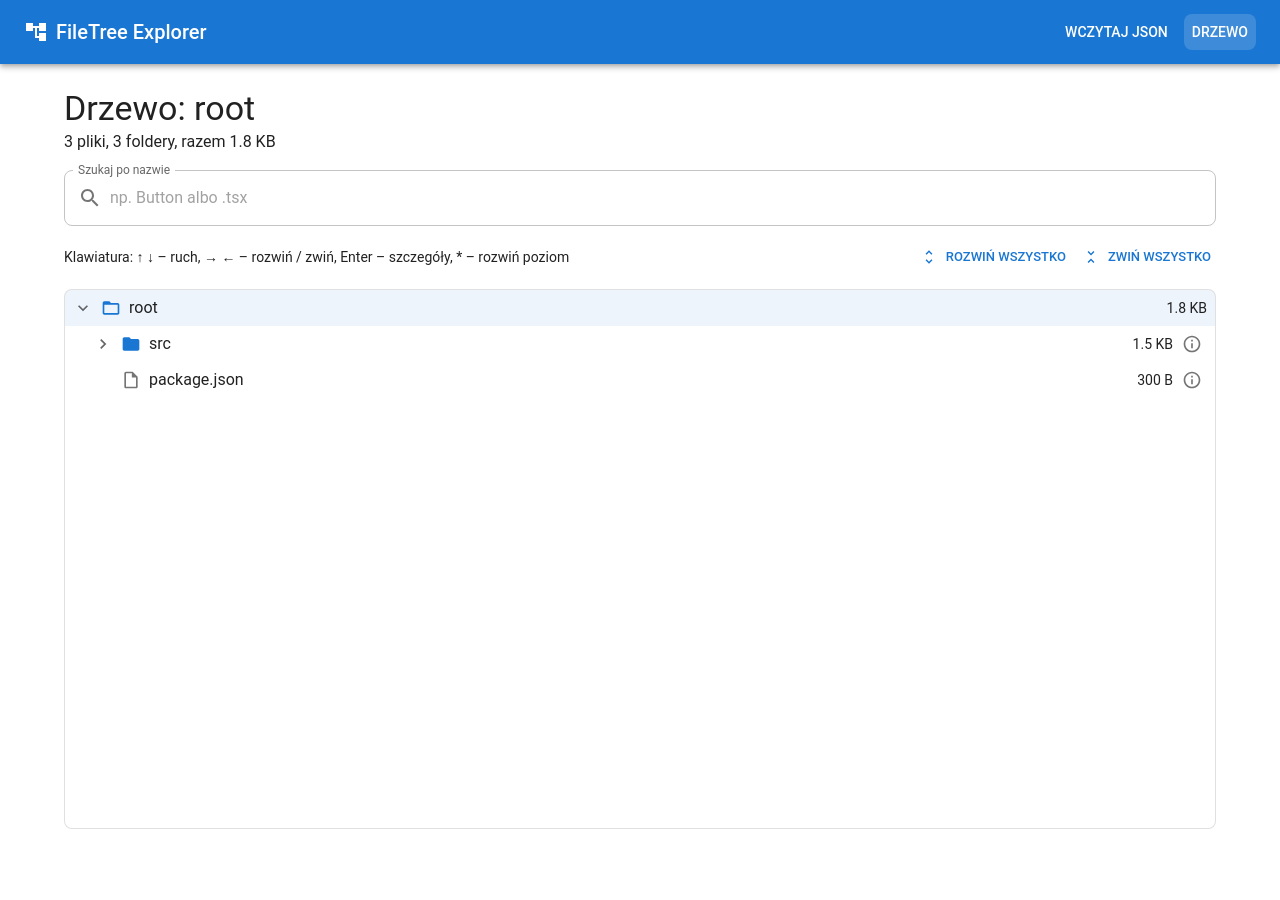
search › keeps the tree state while searching
Click the list item with aria-label "src, 1.5 KB" at point(1153, 344), box [93, 334, 1202, 354]
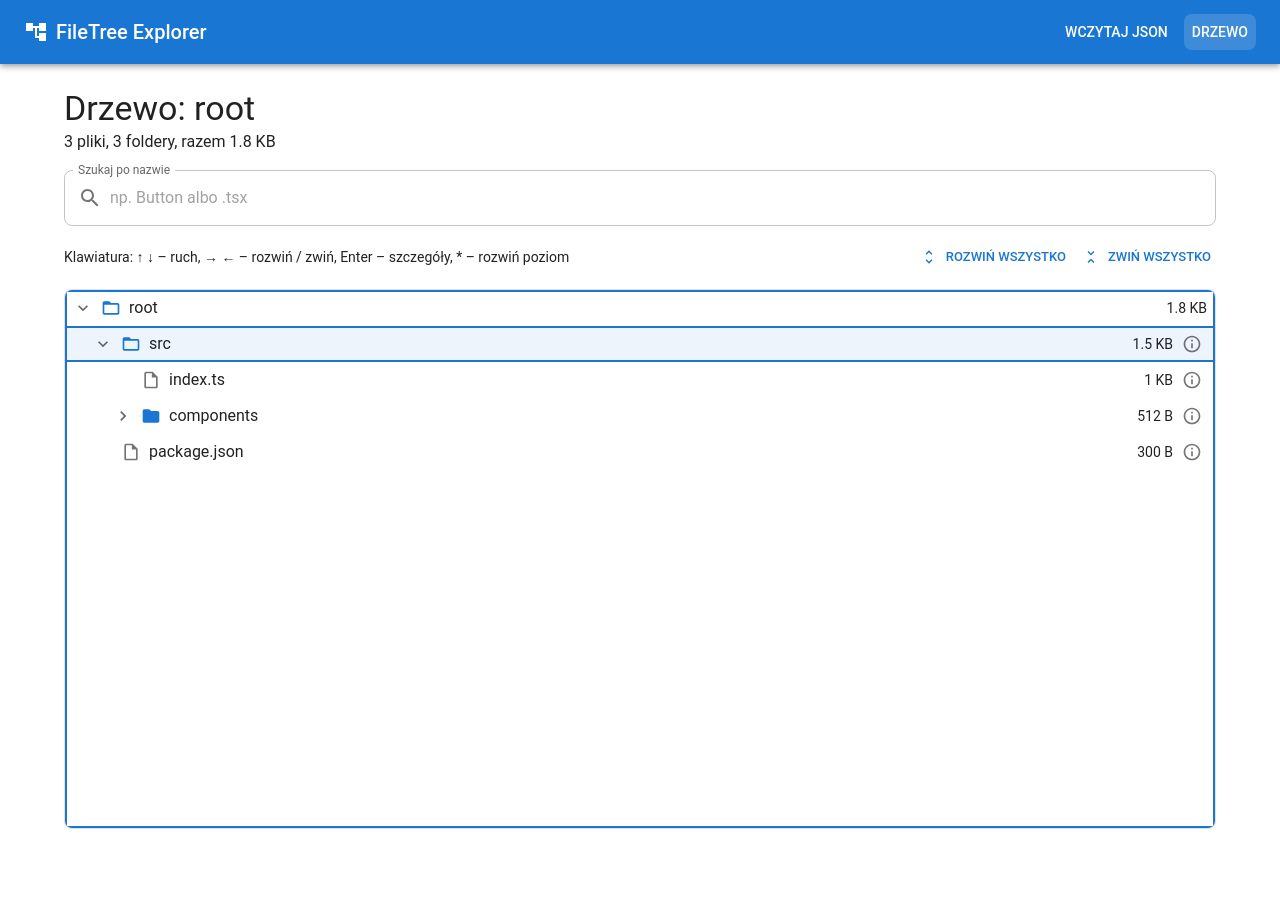
Type "x" into the search field labelled "Szukaj po nazwie" at point(663, 198), box [110, 170, 1216, 226]
Then press Enter
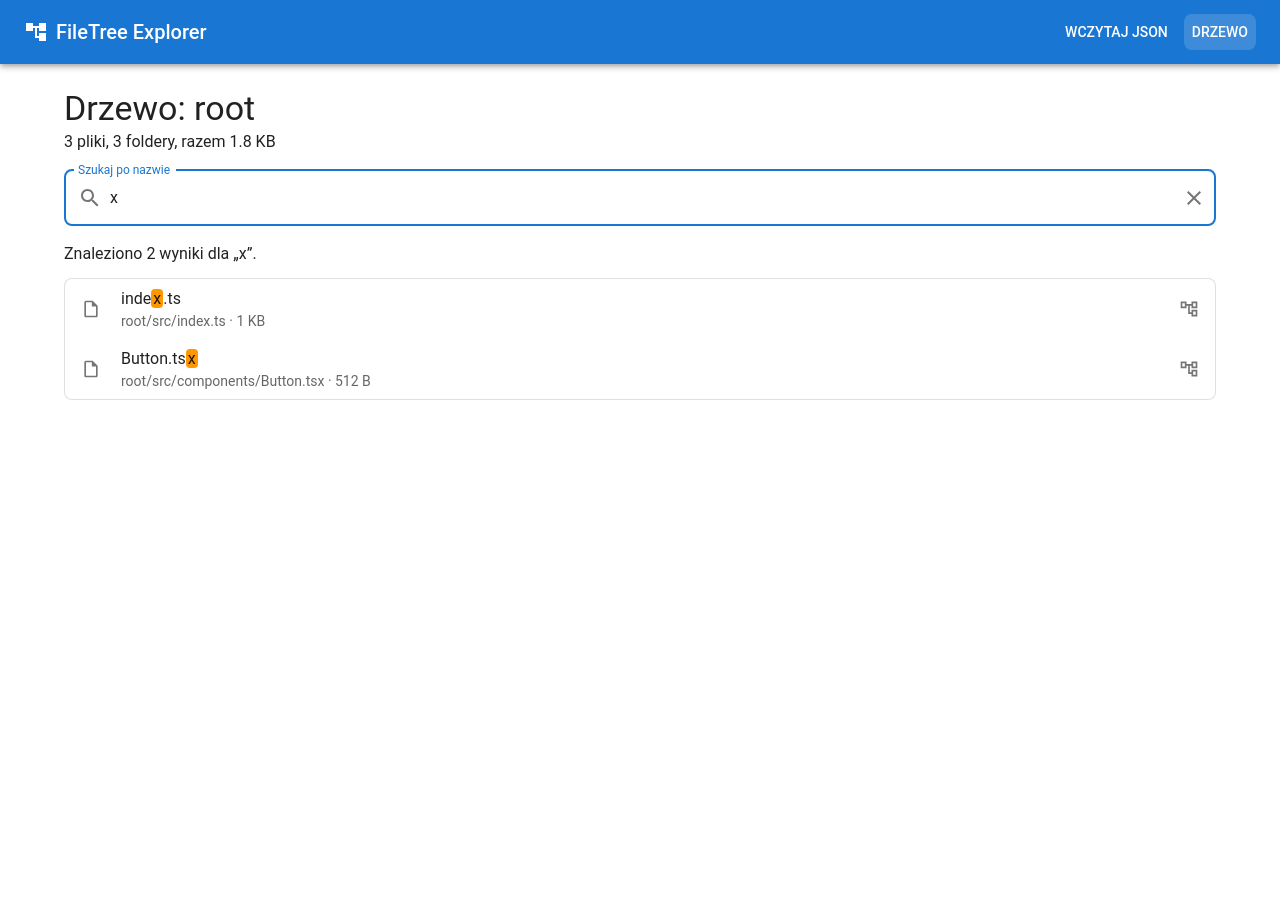
Click the button named "Wyczyść wyszukiwanie" at point(1194, 198), box [1174, 178, 1214, 218]
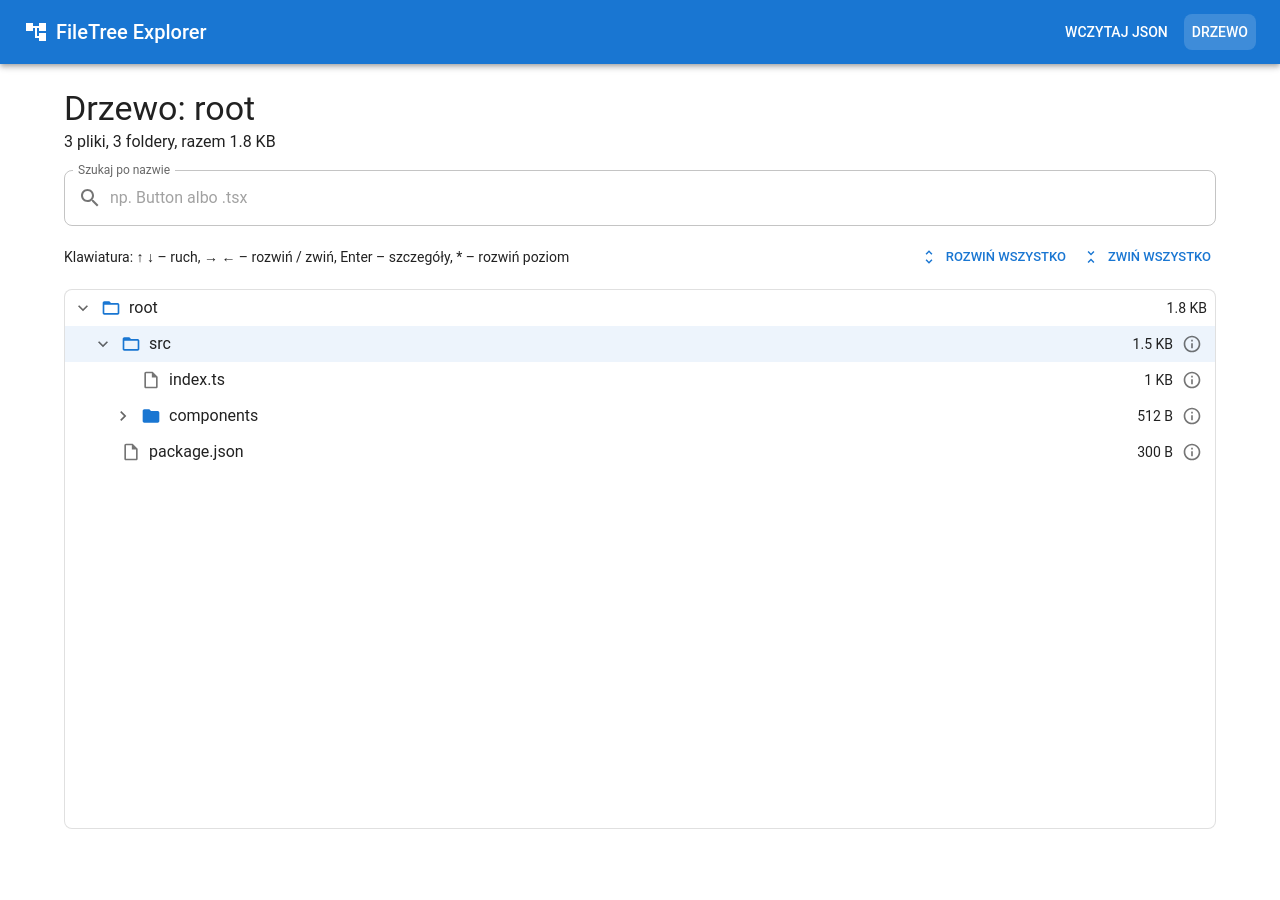
Now the list item with aria-label "components, 512 B" is shown, box [113, 406, 1202, 426]
